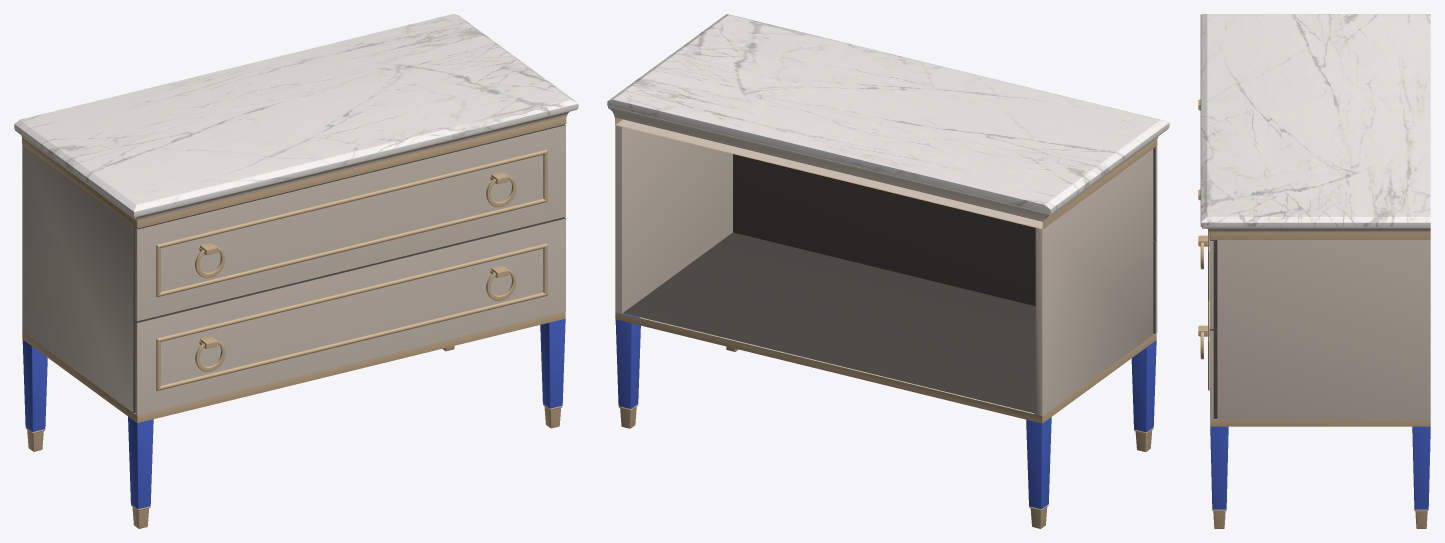
3 renders of one model, left to right at view 1: azimuth 30°, elevation 25°; view 2: azimuth 150°, elevation 25°; view 3: azimuth 270°, elevation 25°, orthographic. The views are drawn at different scales.
Visible parts, largest first — view 1: AV04; view 2: AV04; view 3: AV04.
Part boxes in pixels (x1=…): AV04: x1=14, y1=14, x2=578, y2=528; AV04: x1=607, y1=14, x2=1169, y2=528; AV04: x1=1198, y1=14, x2=1430, y2=528.
Bounding box in the file's own units: 1.2 × 0.847 × 0.5664.
6 materials, 3 textured.
